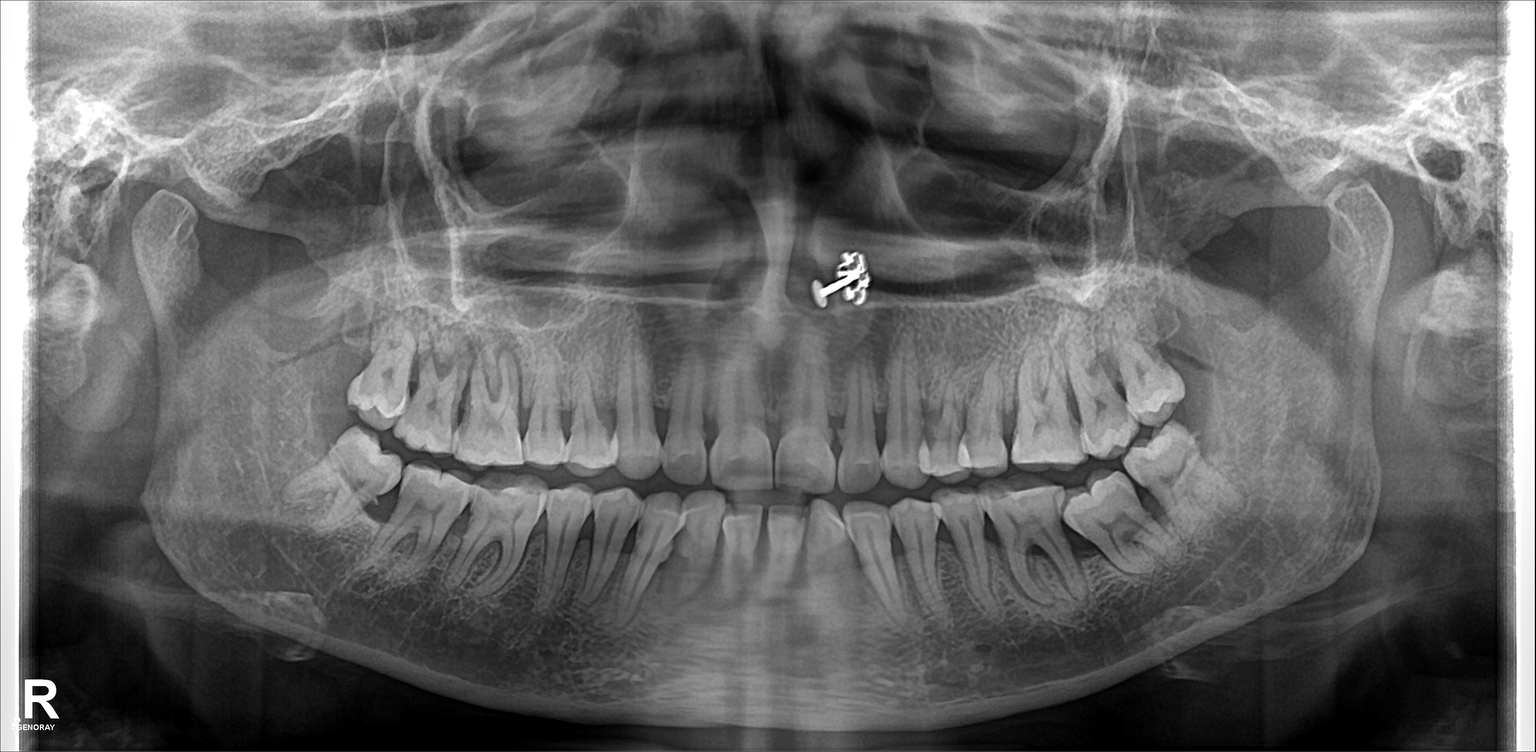Impacted Third Molar: (1125, 428, 1238, 520), (309, 441, 390, 520)
Missing Tooth: (298, 309, 353, 411)
